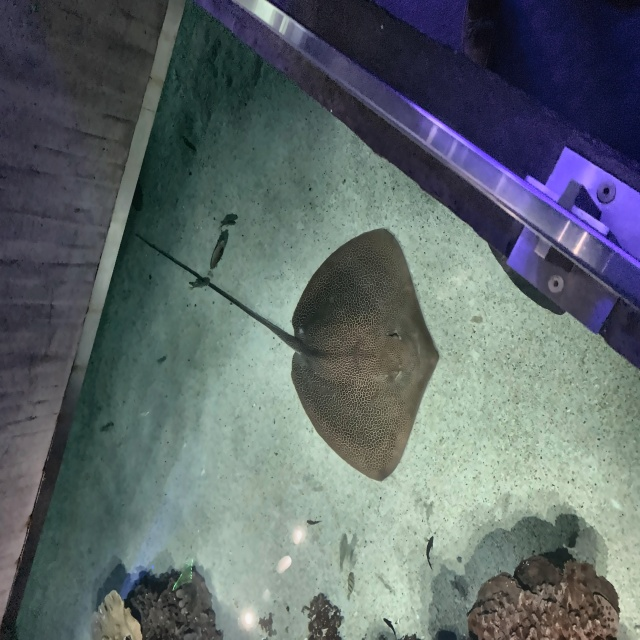fish: (210, 236, 225, 271), (382, 615, 399, 639), (343, 571, 357, 599), (426, 535, 435, 571), (304, 513, 320, 533)
stingray: (290, 227, 440, 482)
